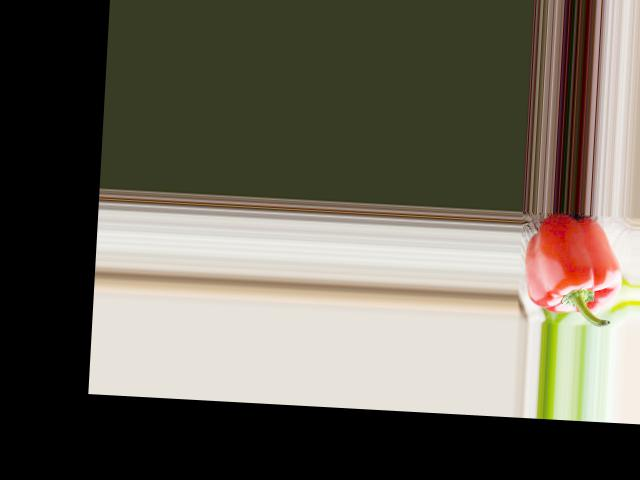bell_pepper: (524, 210, 627, 325)
